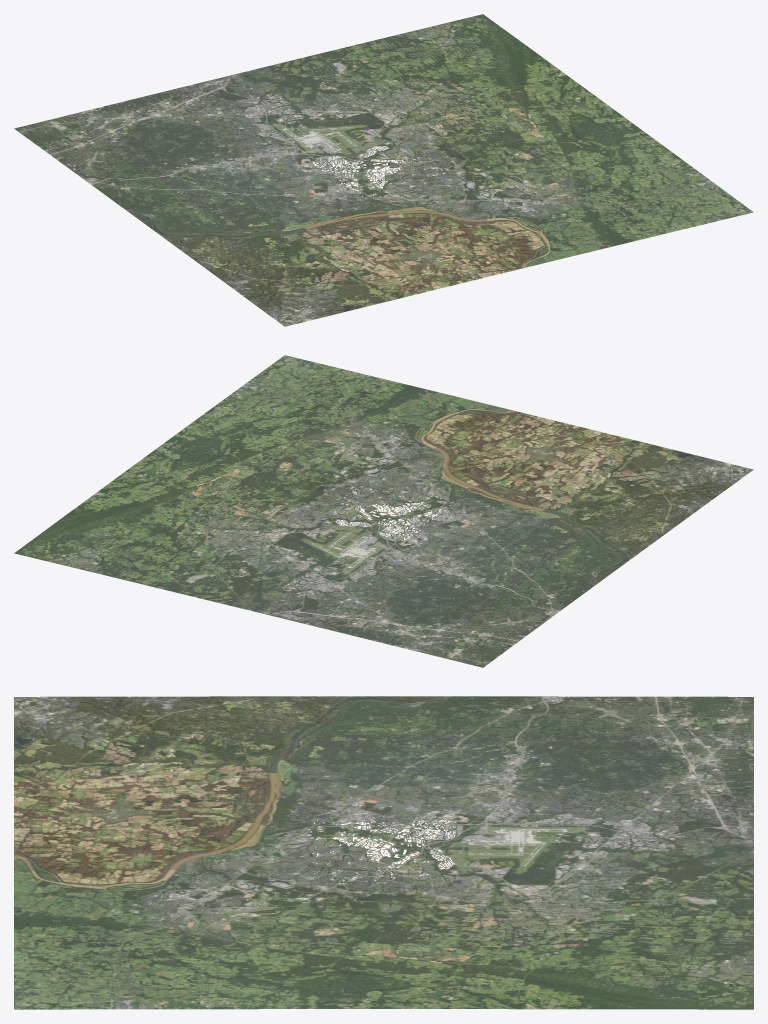
File: ashburn_zoom.glb
3 renders of one model, top to bottom at view 1: azimuth 30°, elevation 25°; view 2: azimuth 150°, elevation 25°; view 3: azimuth 270°, elevation 25°, orthographic. The views are drawn at different scales.
Visible parts, largest first — view 1: L4, L5, Blocks_Other; view 2: L4, L5, Blocks_Other; view 3: L4, L5, Blocks_Other, Blocks_DC, L6.
Boxes of the visible parts, x1,y1,x2,y2 form: L4: (14,14,753,326); L5: (310,138,457,200); Blocks_Other: (313,146,447,199); L4: (14,355,753,667); L5: (310,479,457,541); Blocks_Other: (334,483,455,540); L4: (14,696,753,1009); L5: (310,821,457,883); Blocks_Other: (308,820,455,884); Blocks_DC: (332,820,451,868); L6: (361,842,406,861).
Size of what is drawn, in the model's own units: 40000 by 127 by 40000.
13 materials, 7 textured.
